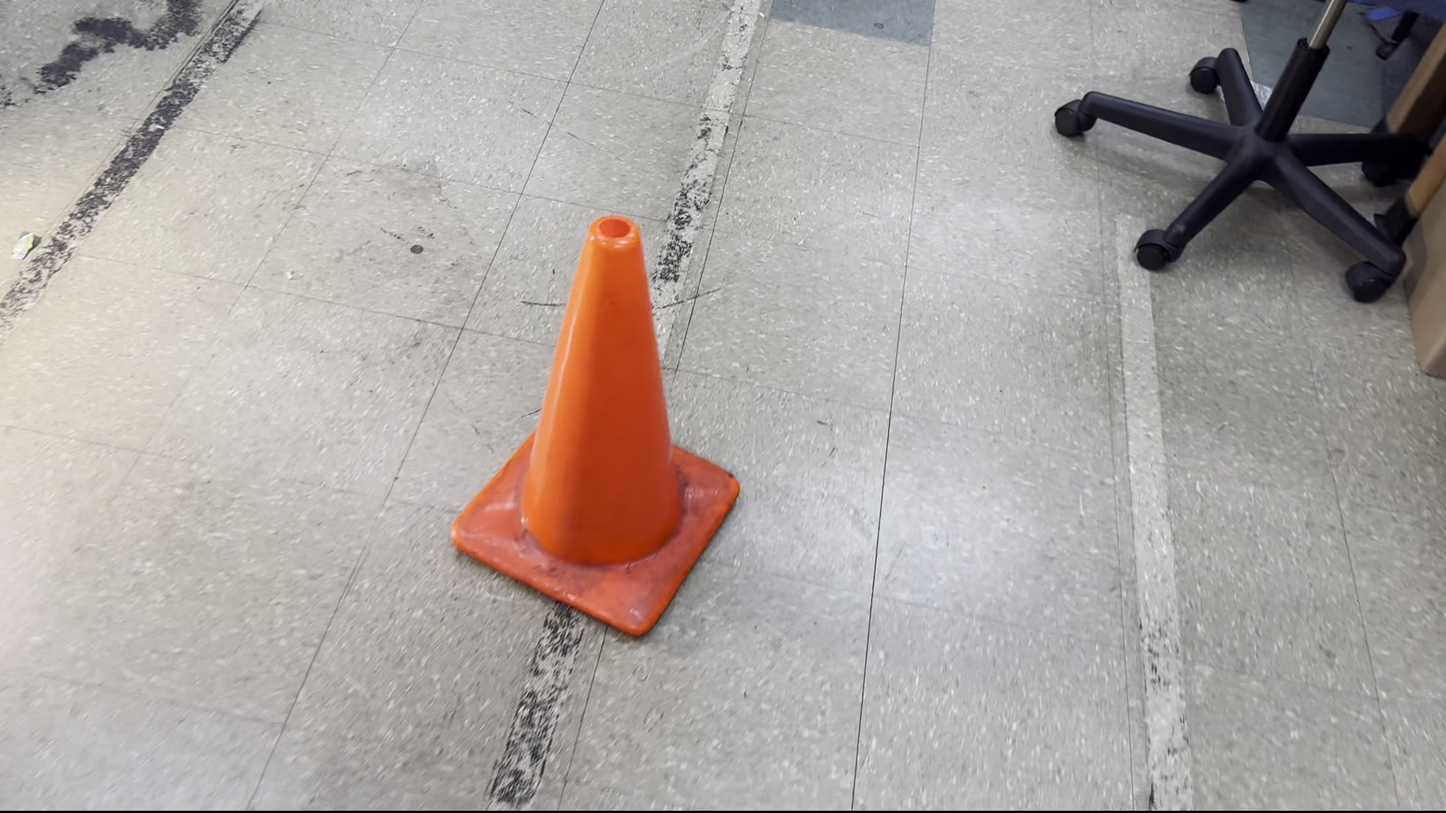traffic_cone: (449, 213, 741, 638)
